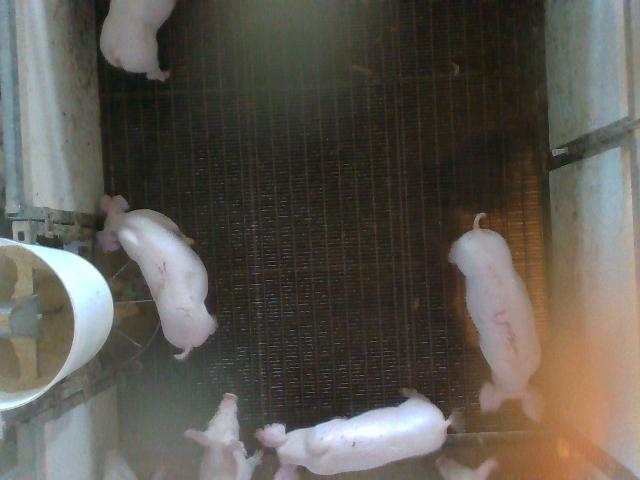pig-3: (449, 212, 541, 421)
